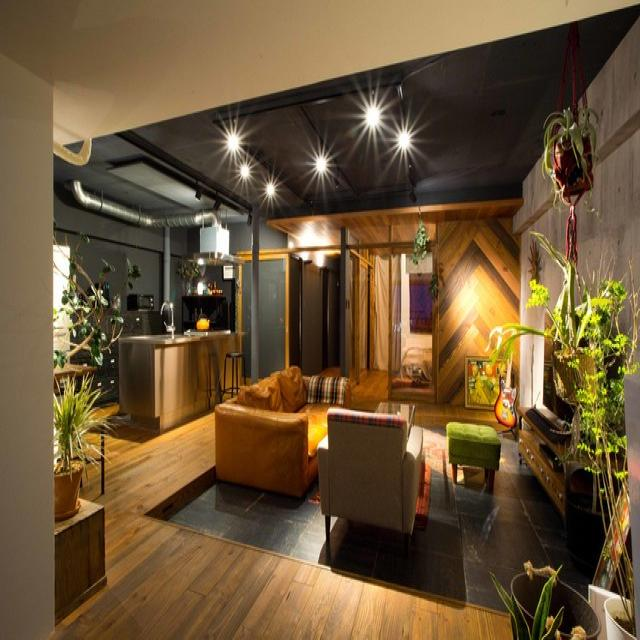vintage chair: (321, 404, 432, 562)
vintage sofa: (222, 366, 350, 500)
